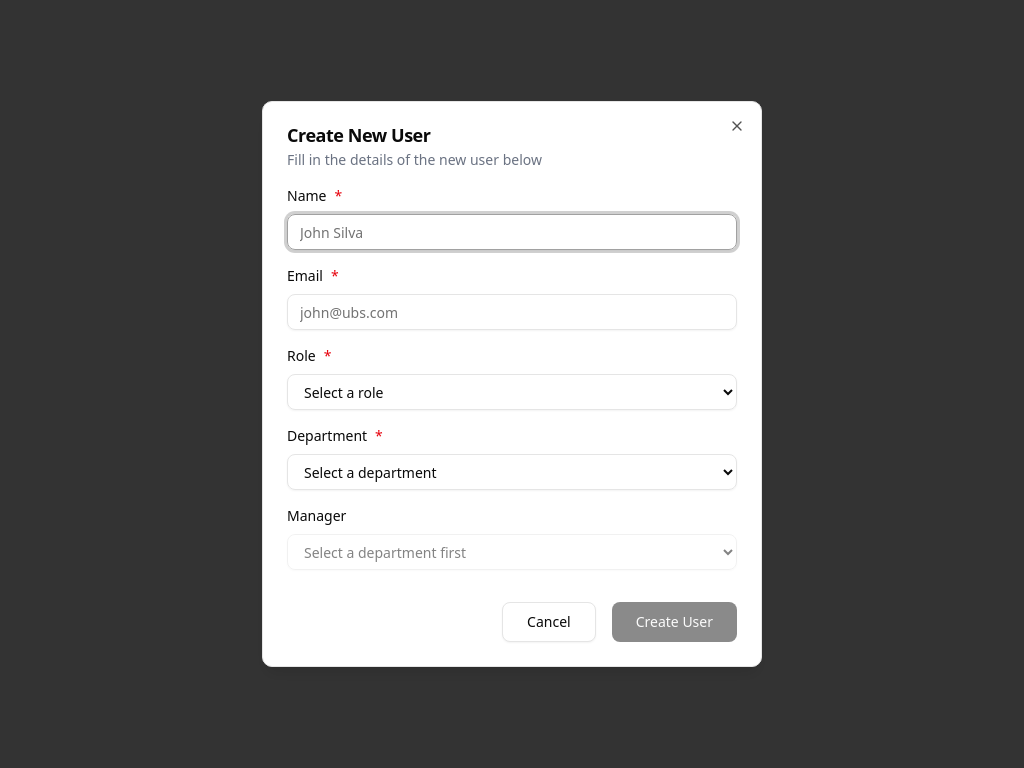
Test case: CreateUserDialog › shows asterisk for manager when employee role is selected
Expected: the dropdown labelled "Department *" is shown, [287,454,737,490]
Expected: the text "*" is not shown
// Select employee role
Select "Employee" in the dropdown labelled "Role *" at (512, 392), box [287,374,737,410]
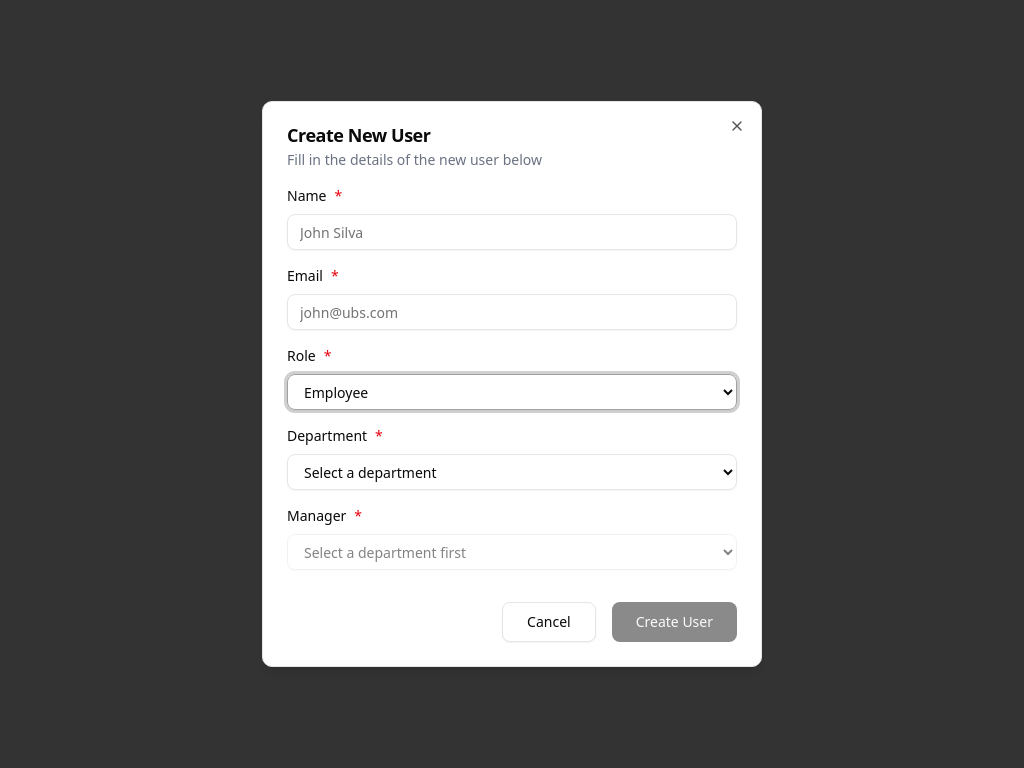
Result: the label "Manager *" is shown at [287,506,362,525]
